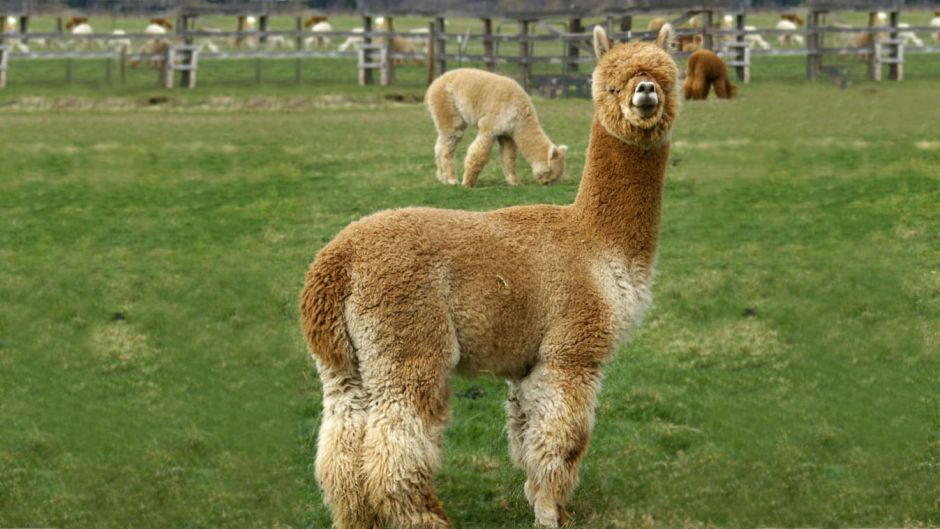alpaca: (300, 22, 679, 529), (425, 66, 569, 190), (683, 49, 738, 102)
